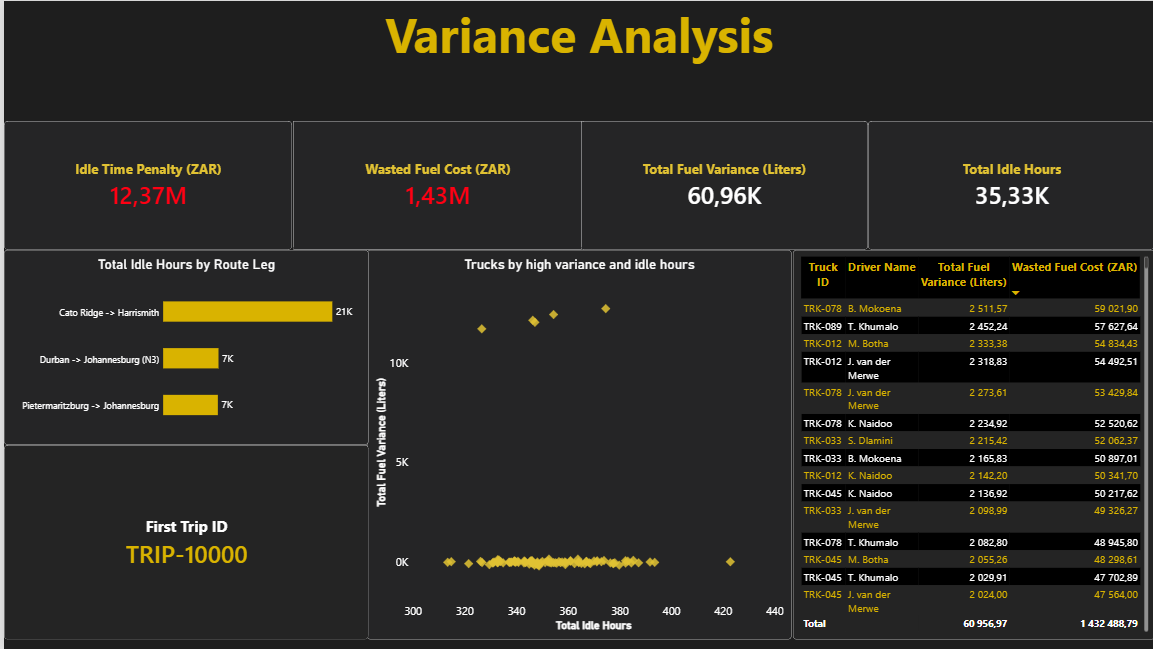

The dashboard page shown, as its layout file describes it:
{"tool":"powerbi","page":{"name":"VISUALISATION","canvas":[2560,1440],"ordinal":0},"visuals":[{"type":"cardVisual","fields":{"Data":["Fact_Trips.Total Idle Hours"]},"box":[1920,266.7,638,286.3],"z":0},{"type":"cardVisual","fields":{"Data":["Fact_Trips.Total Fuel Variance (Liters)"]},"box":[1278.5,266.8,640,286.3],"z":1000},{"type":"cardVisual","fields":{"Data":["Fact_Trips.Wasted Fuel Cost (ZAR)"]},"box":[643.3,266.7,640,286.3],"z":2000},{"type":"cardVisual","fields":{"Data":["Fact_Trips.Idle Time Penalty (ZAR)"]},"box":[0,266.7,640,286.7],"z":3000},{"type":"scatterChart","title":"Trucks by high variance and idle hours","fields":{"Category":["Dim_Trucks.Truck_ID"],"X":["Fact_Trips.Total Idle Hours"],"Y":["Fact_Trips.Total Fuel Variance (Liters)"]},"box":[806.8,553,943.4,865.3],"z":4000},{"type":"clusteredBarChart","title":"Total Idle Hours by Route Leg","fields":{"Category":["Fact_Trips.Route_Leg"],"Y":["Fact_Trips.Total Idle Hours"]},"box":[0,553,810,432.7],"z":5000},{"type":"tableEx","fields":{"Values":["Dim_Trucks.Truck_ID","Dim_Drivers.Driver_Name","Fact_Trips.Total Fuel Variance (Liters)","Fact_Trips.Wasted Fuel Cost (ZAR)"]},"box":[1753.4,553,806.8,865.3],"z":6000},{"type":"cardVisual","fields":{"Data":["Min(Fact_Trips.Trip_ID)"]},"box":[0,985.7,810,432.7],"z":7000},{"type":"textbox","box":[0,0,2556.7,266.7],"z":7001}]}

Visuals, with their boxes in screenshot pixels (x1, y1, x2, y2), scaled from the page's 2560x1440 canvas onto the 1153x649 screenshot:
cardVisual - Fact_Trips.Total Idle Hours: crop(865, 120, 1152, 249)
cardVisual - Fact_Trips.Total Fuel Variance (Liters): crop(576, 120, 864, 249)
cardVisual - Fact_Trips.Wasted Fuel Cost (ZAR): crop(290, 120, 578, 249)
cardVisual - Fact_Trips.Idle Time Penalty (ZAR): crop(0, 120, 288, 249)
"Trucks by high variance and idle hours" scatterChart: crop(363, 249, 788, 639)
"Total Idle Hours by Route Leg" clusteredBarChart: crop(0, 249, 365, 444)
tableEx - Dim_Trucks.Truck_ID x Dim_Drivers.Driver_Name: crop(790, 249, 1152, 639)
cardVisual - Min(Fact_Trips.Trip_ID): crop(0, 444, 365, 639)
textbox: crop(0, 0, 1152, 120)
